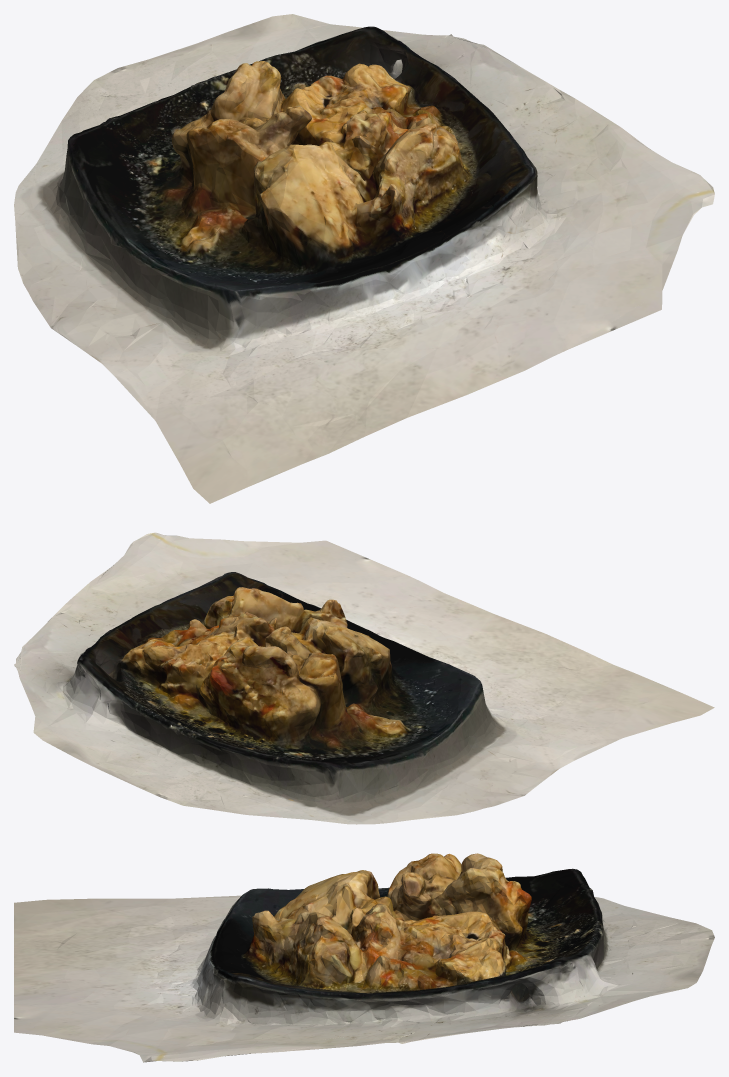
Rendered from frango.glb.
3 views of the same model, one above another, from view 1: azimuth 30°, elevation 25°; view 2: azimuth 150°, elevation 25°; view 3: azimuth 270°, elevation 25° (orthographic). The views are drawn at different scales.
Visible parts, largest first — view 1: geometry_0; view 2: geometry_0; view 3: geometry_0.
Boxes of the visible parts, bbox=[...] form: geometry_0: bbox=[14, 14, 714, 503]; geometry_0: bbox=[14, 532, 714, 824]; geometry_0: bbox=[14, 853, 714, 1062].
Size of the model in its own units: 0.4184 by 0.127 by 0.4582.
Materials: 1 (1 with a texture image).
